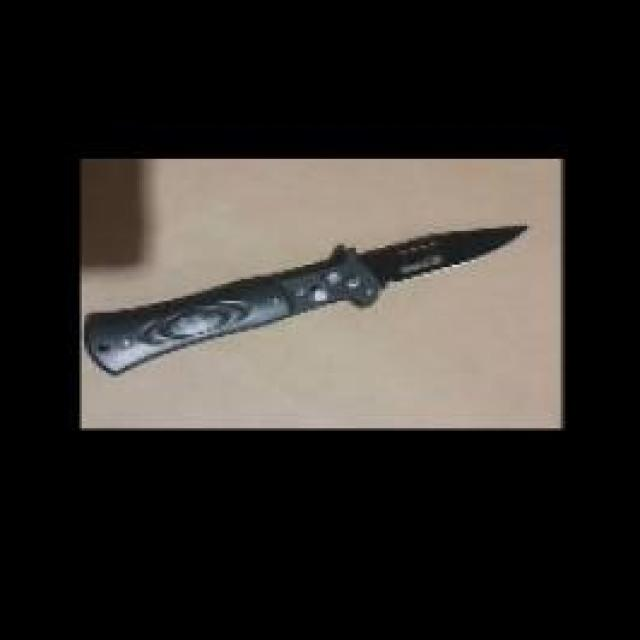knife: (82, 212, 532, 384)
